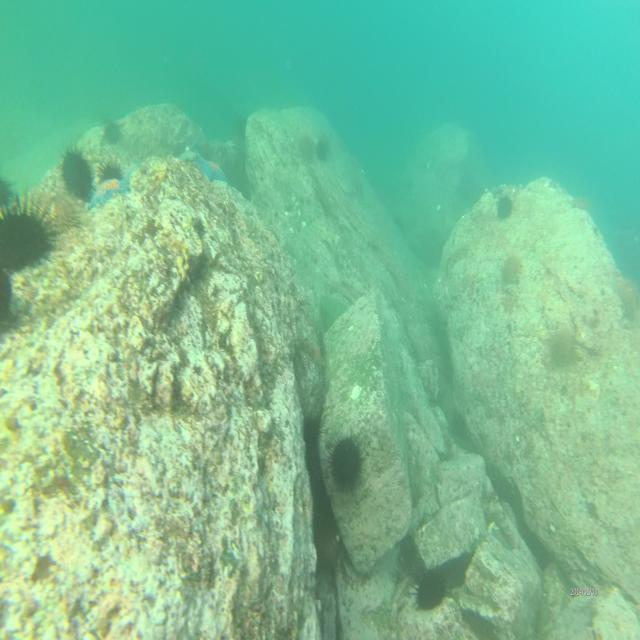echinus: (0, 202, 52, 274), (59, 146, 94, 206), (332, 435, 364, 493), (414, 565, 448, 611), (96, 156, 124, 184), (0, 268, 13, 316), (497, 192, 515, 221), (316, 136, 332, 168)
starfish: (197, 151, 227, 187), (91, 178, 127, 206), (312, 337, 325, 368), (178, 145, 196, 166)
